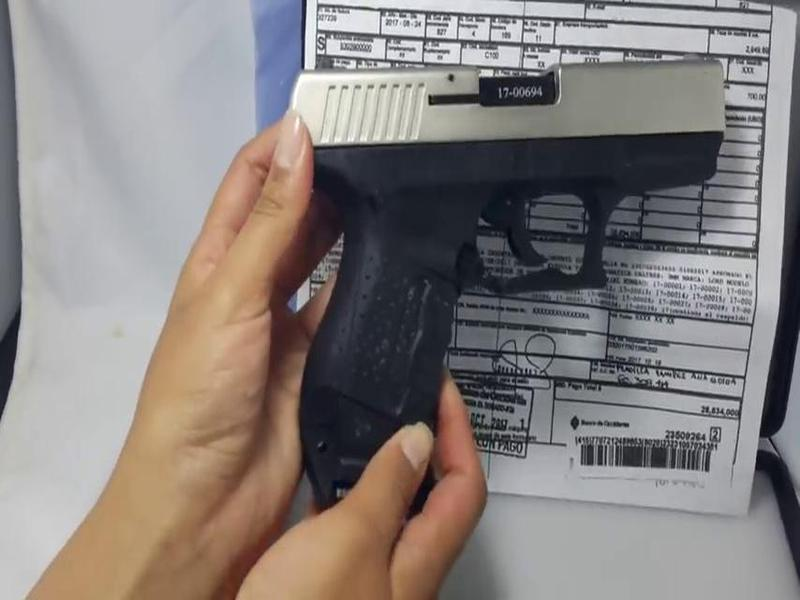Pistola: (296, 34, 727, 414)
